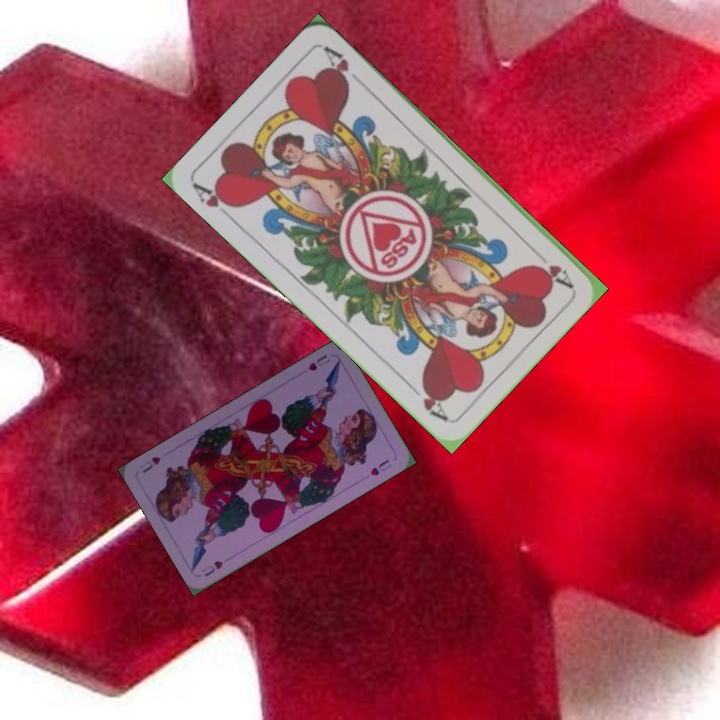HA: (189, 179, 239, 225), (528, 244, 575, 291)
HU: (197, 556, 226, 579), (304, 350, 332, 373)
